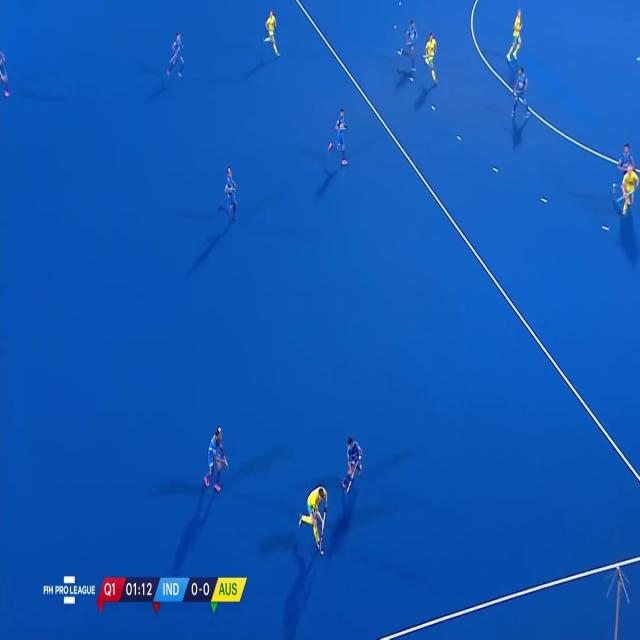ball: (319, 545, 326, 557)
